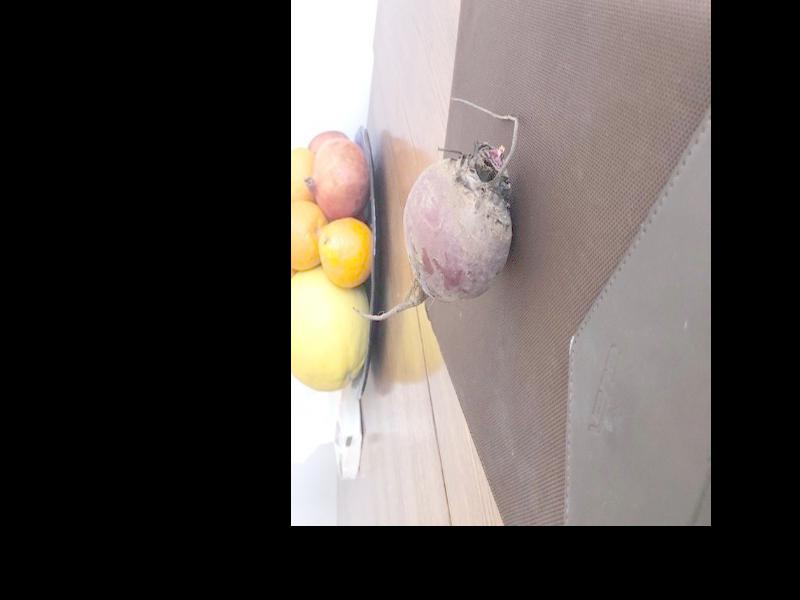Beet: (351, 96, 518, 321)
